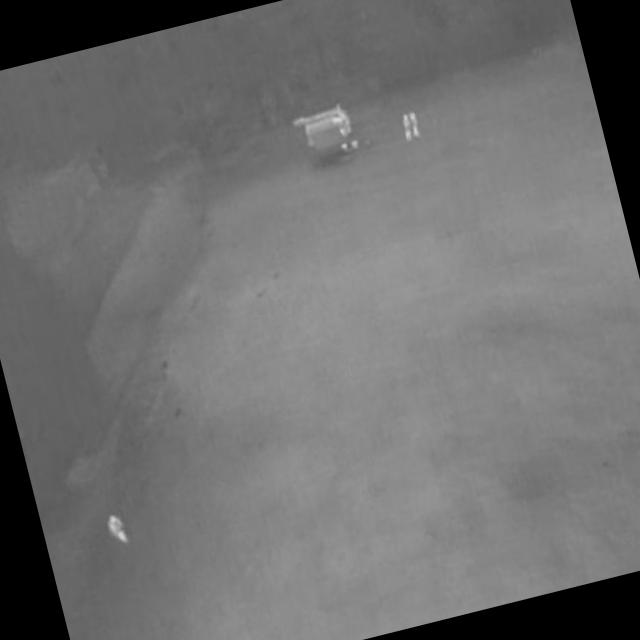person: (105, 510, 133, 551), (398, 113, 415, 143), (408, 111, 422, 140)
